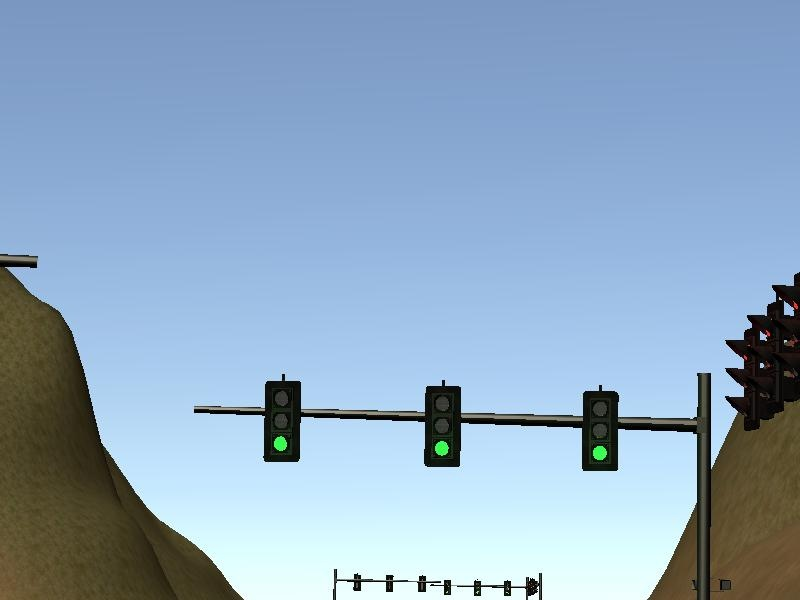traffic_light_green: (227, 370, 699, 475)
